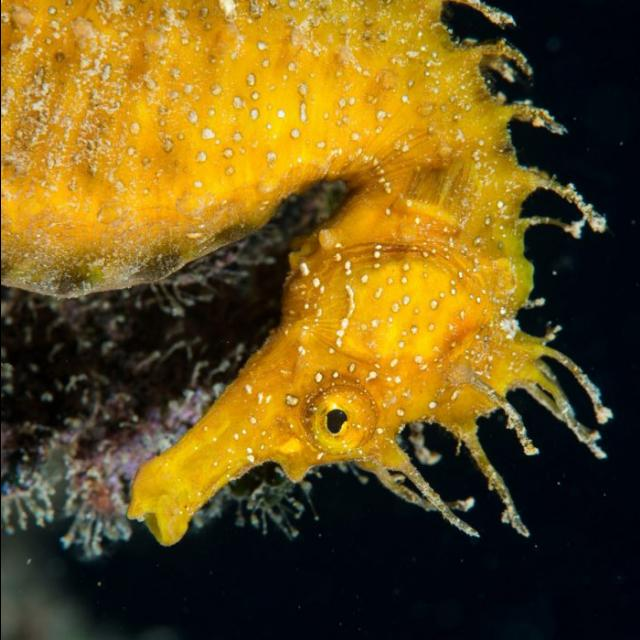Guttu: (113, 204, 547, 552)
